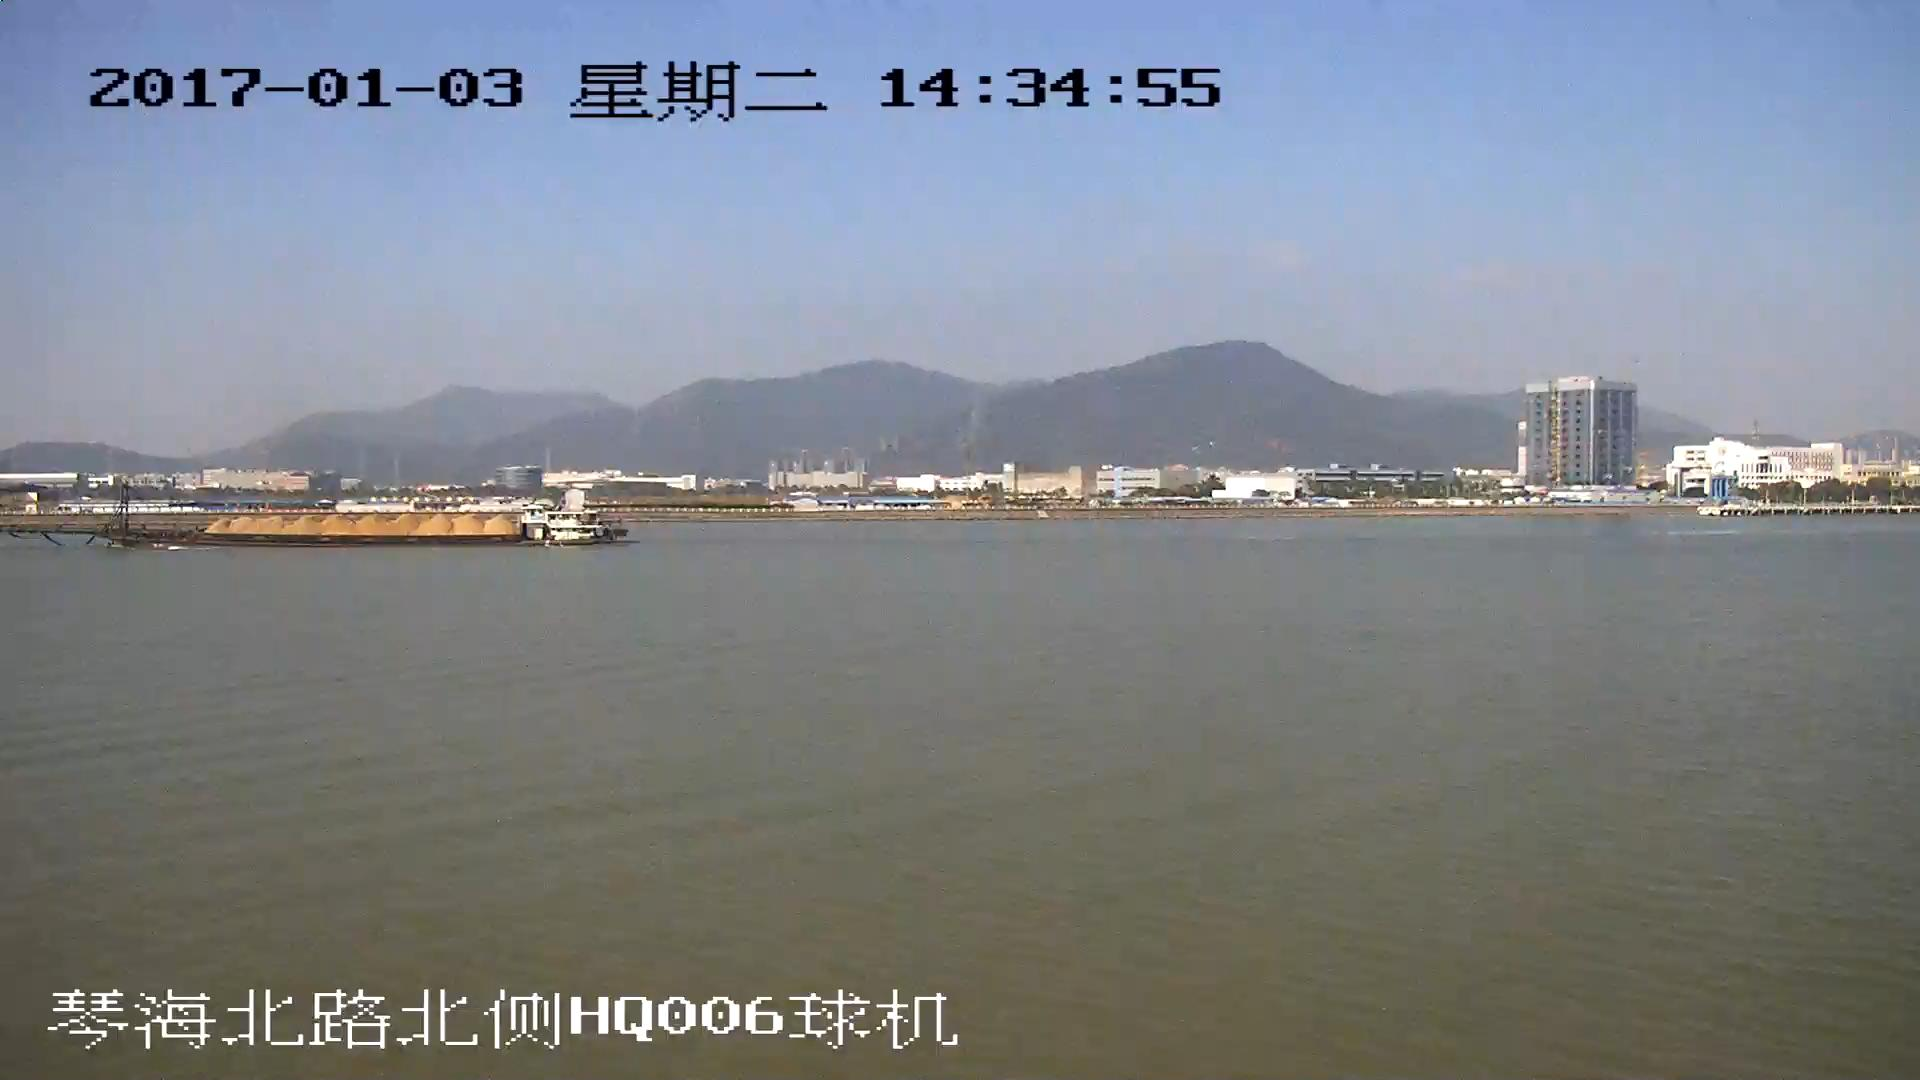ore carrier: (1, 491, 629, 546)
